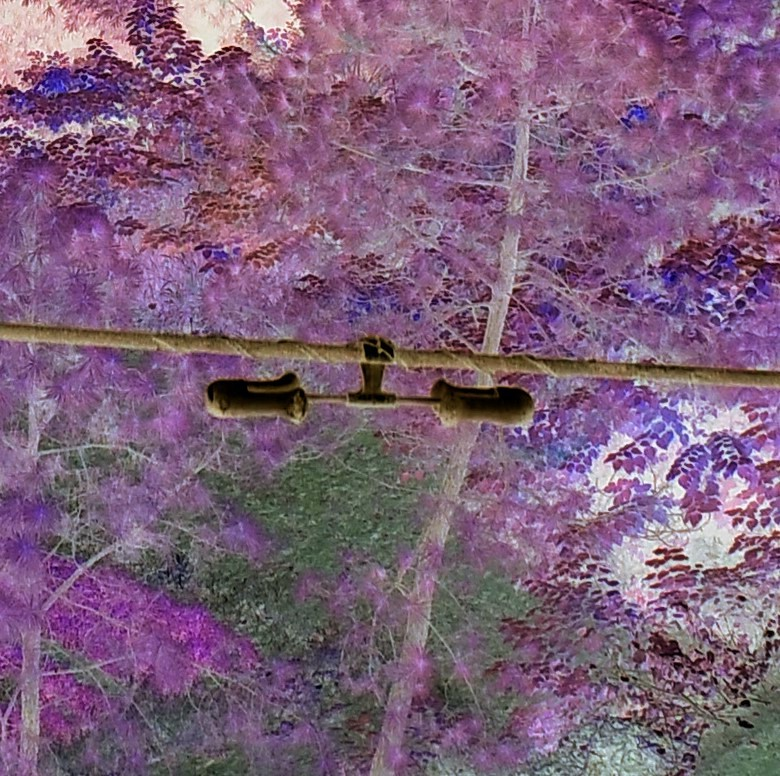Shockproof hammer: (188, 328, 547, 433)
